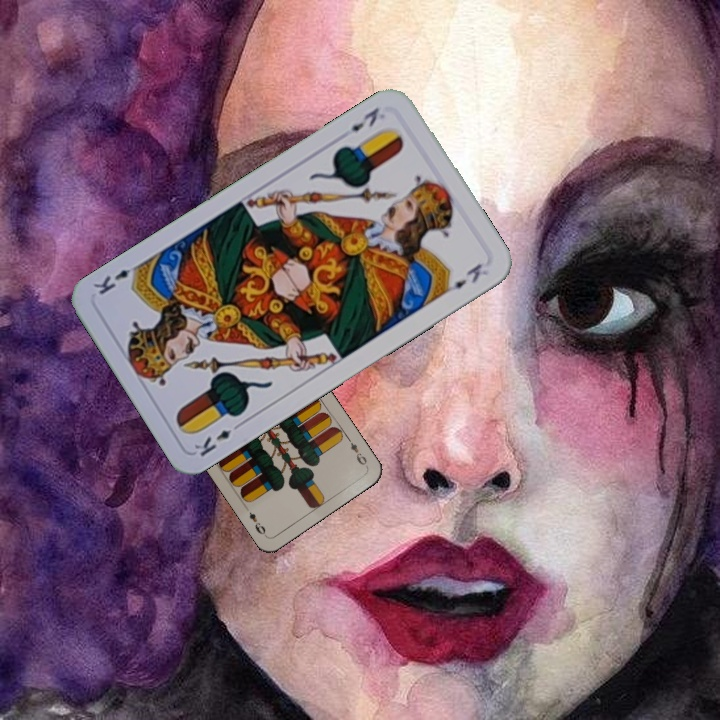E9: (343, 433, 370, 470)
EK: (190, 418, 245, 459), (346, 103, 382, 135)
